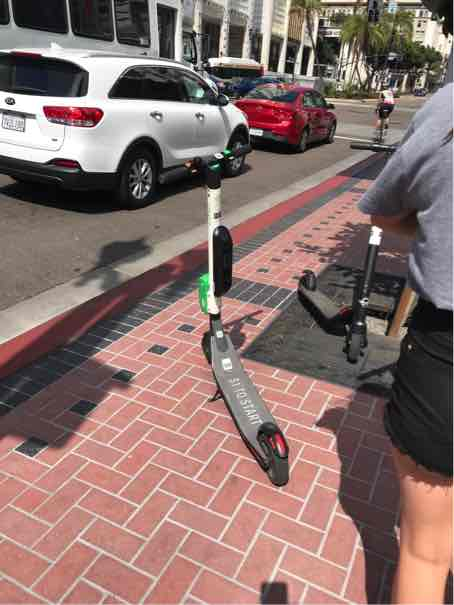scooter: (159, 140, 300, 493)
